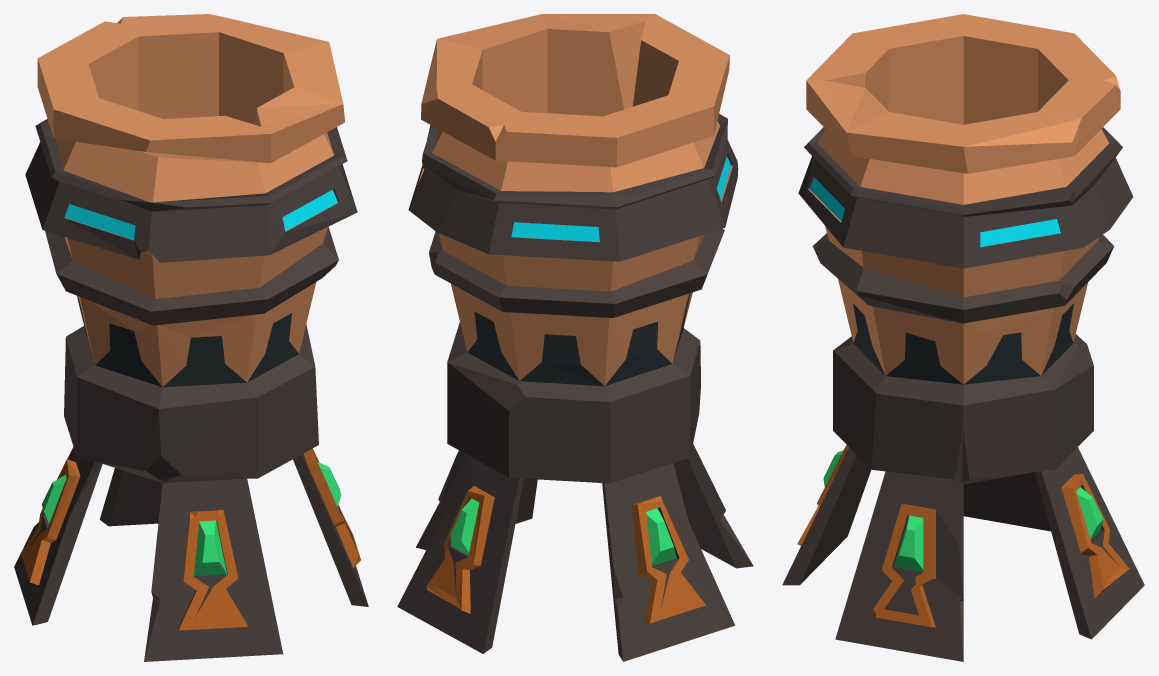
Rendered from Heater Aztec 1.fbx.
3 views of the same model, side by side, from view 1: azimuth 30°, elevation 25°; view 2: azimuth 150°, elevation 25°; view 3: azimuth 270°, elevation 25° (orthographic).
Visible parts, largest first — view 1: Heater Aztec 1; view 2: Heater Aztec 1; view 3: Heater Aztec 1.
Part boxes in pixels (box(x1,y1,x2,y2)): Heater Aztec 1: box(14, 14, 368, 661); Heater Aztec 1: box(397, 14, 753, 661); Heater Aztec 1: box(782, 14, 1144, 661).
Size of the model in its own units: 0.7216 by 1.11 by 0.7216.
